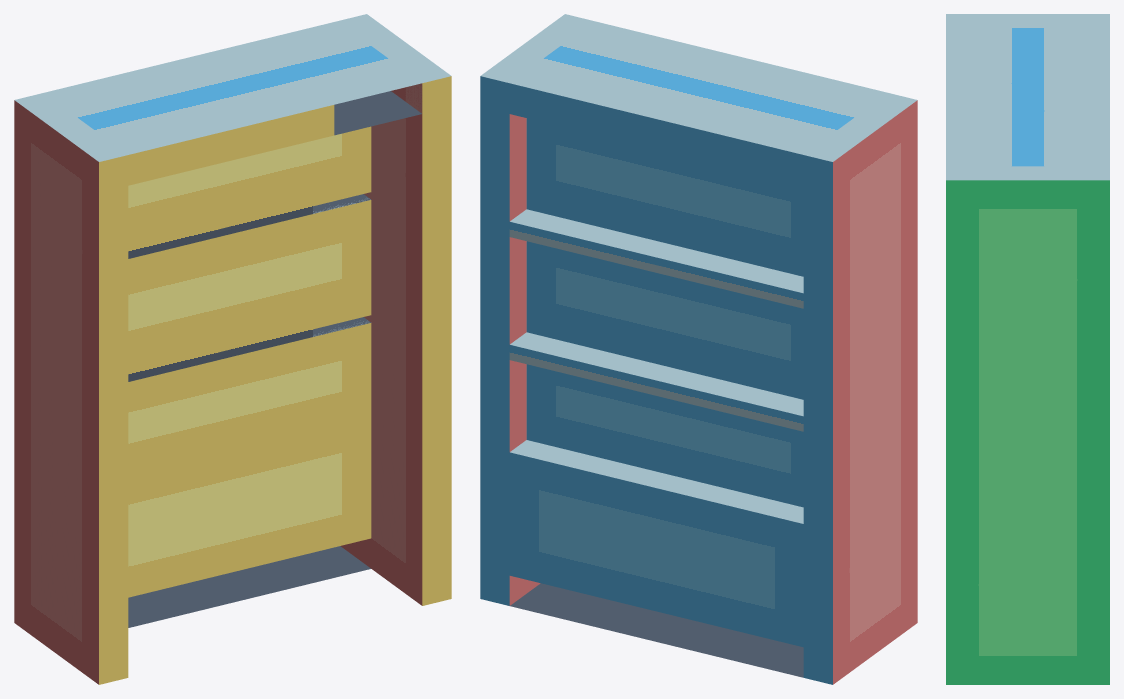
File: shelf.gltf
3 views of the same model, side by side, from view 1: azimuth 30°, elevation 25°; view 2: azimuth 150°, elevation 25°; view 3: azimuth 270°, elevation 25° (orthographic). The views are drawn at different scales.
Parts seen in each view (by area): view 1: cube-col (×9); view 2: cube-col (×9); view 3: cube-col (×3).
Part boxes in pixels (x1,y1,x2,y2): cube-col (×9): (14, 14, 451, 684); cube-col (×9): (480, 14, 917, 684); cube-col (×3): (946, 14, 1109, 684).
Size of the model in its own units: 0.75 by 1.06 by 0.3125.
2 materials, 2 textured.
